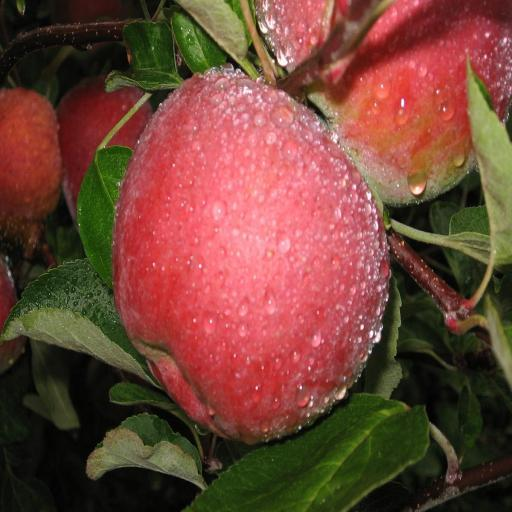apple: (113, 69, 389, 442)
